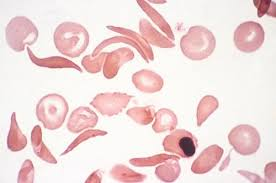redbloodcell: (50, 16, 89, 59), (31, 92, 72, 131), (230, 17, 270, 56), (175, 23, 216, 61), (223, 121, 264, 158), (2, 13, 39, 53), (130, 66, 168, 94)
sicklecell: (106, 22, 163, 64), (90, 33, 157, 64), (130, 1, 177, 42), (24, 44, 83, 76), (57, 127, 113, 158), (24, 122, 61, 166), (120, 151, 184, 168), (217, 145, 235, 173)
